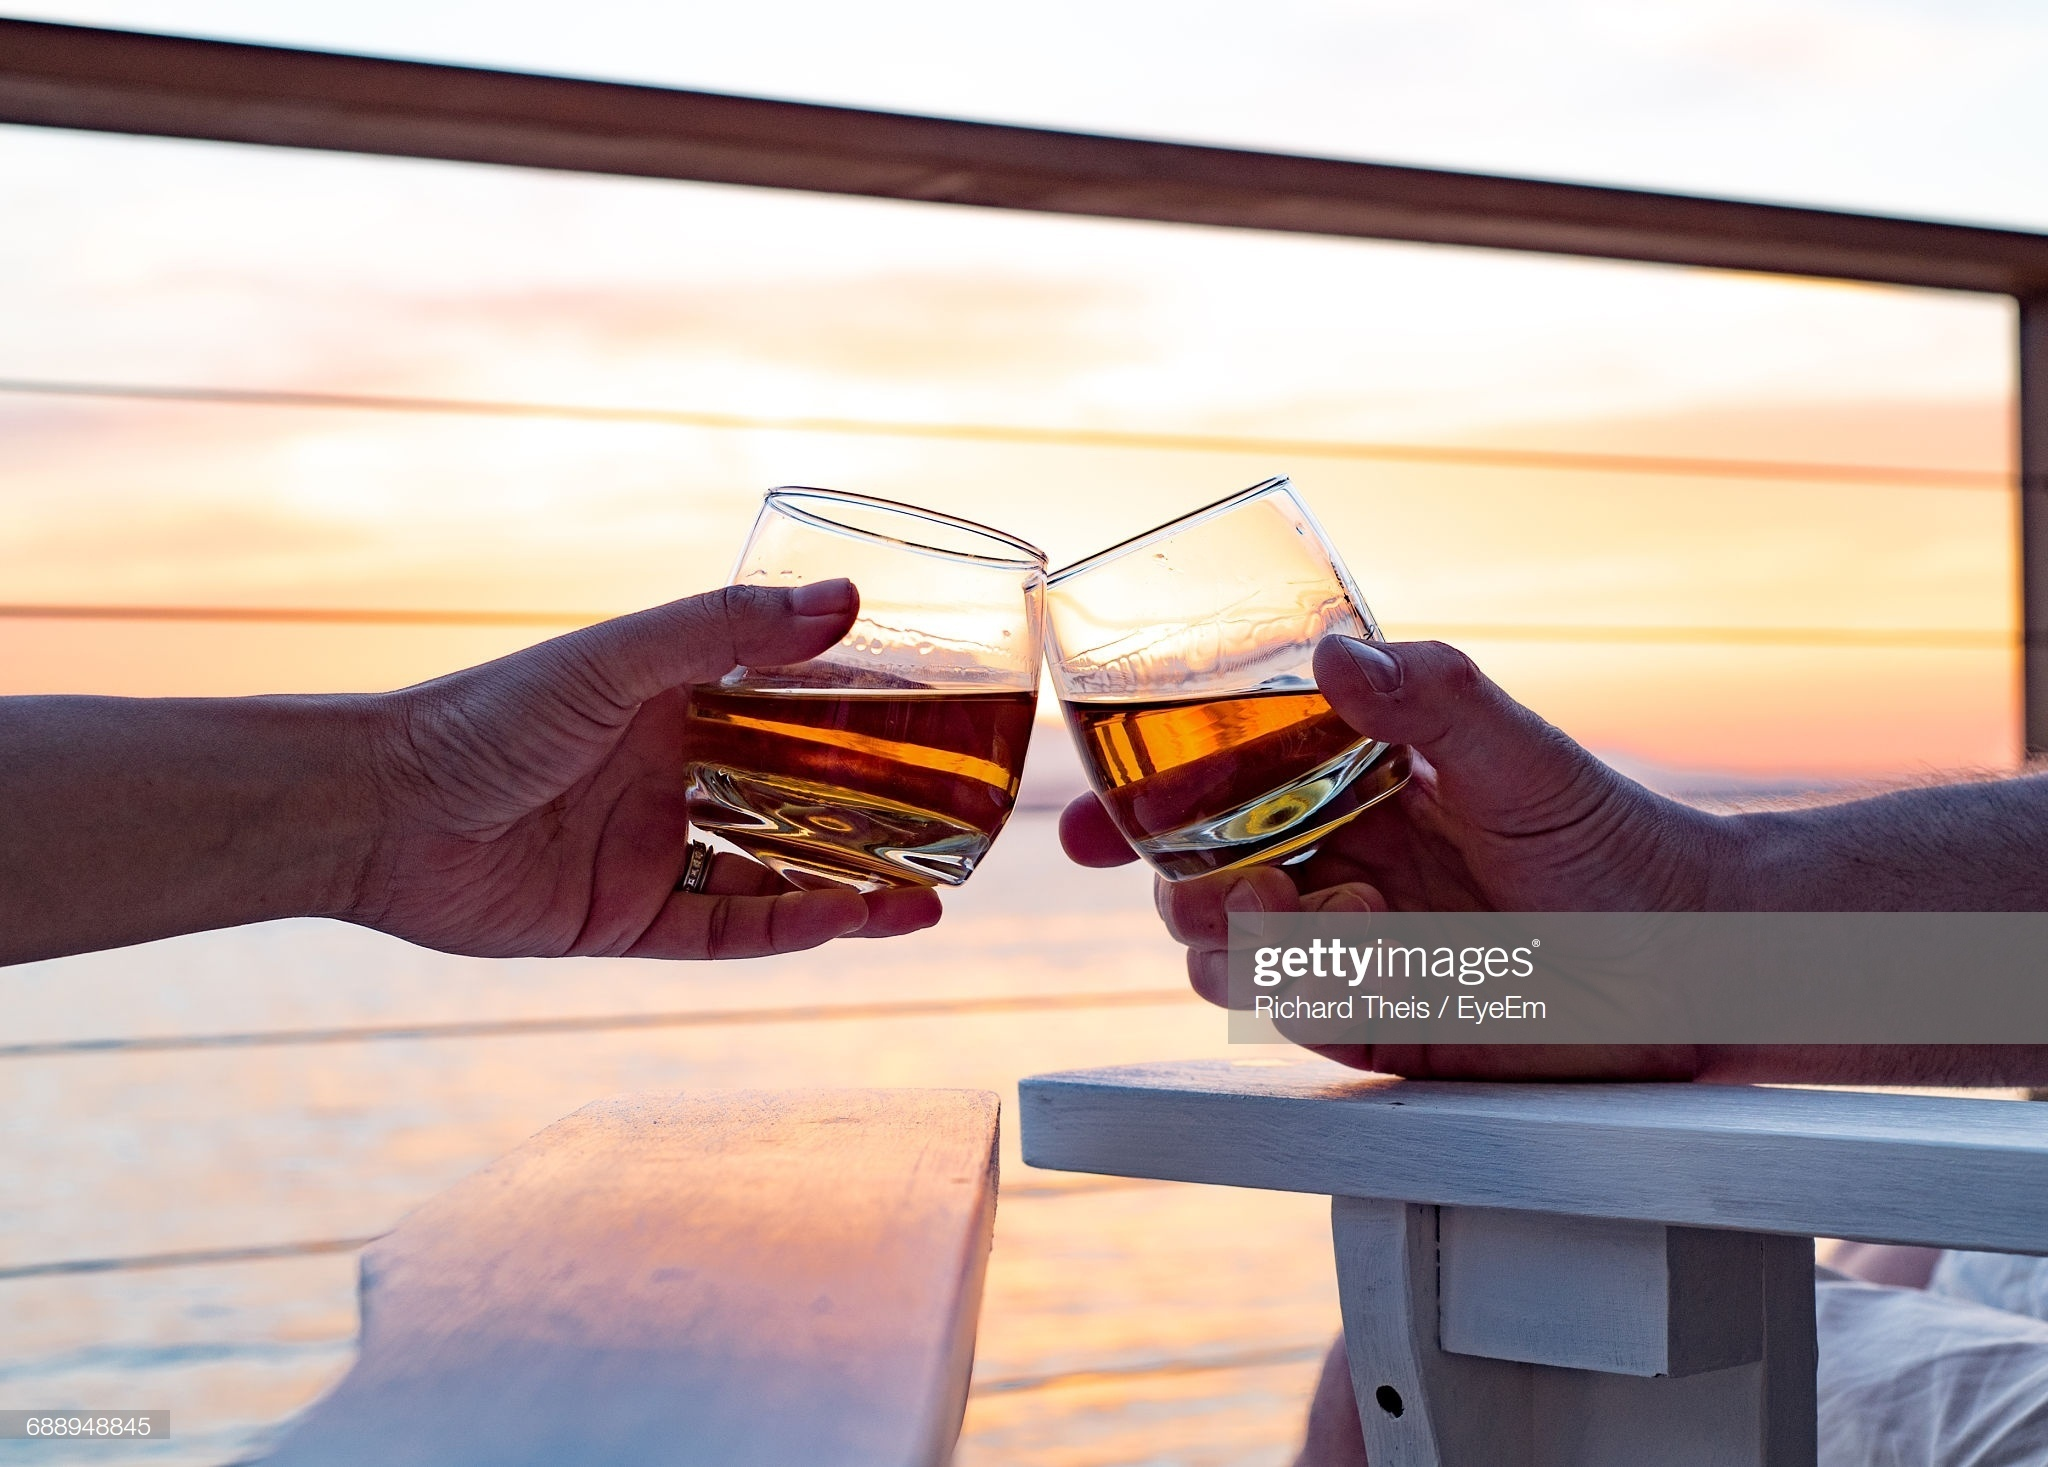whiskey: (726, 457, 1046, 929), (1049, 495, 1421, 884)
